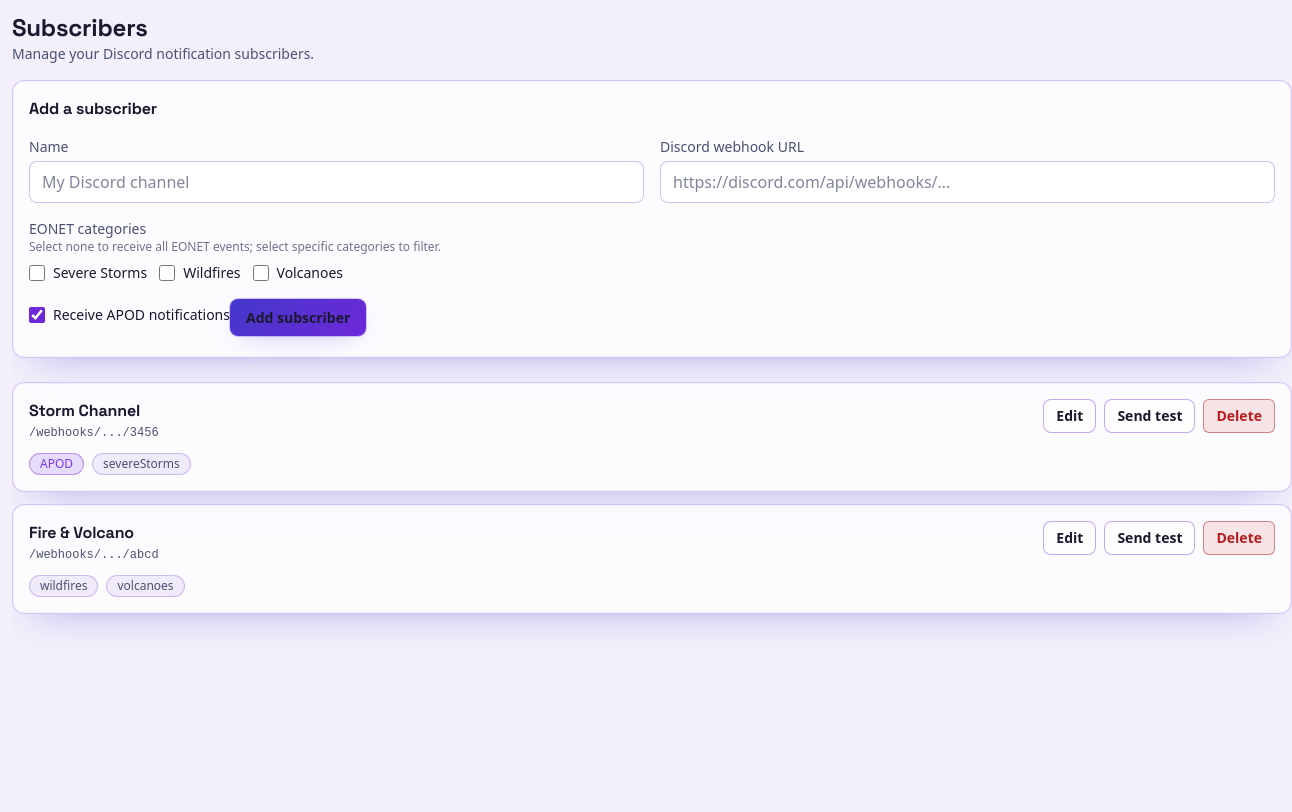
Test case: Subscribers — VAL-FE-SUB-002 webhook URL validation › rejects `not-a-url` with a field error and sends no POST
Expected: the list with test id "subscribers-list" is shown, top-left (12, 382), bottom-right (1291, 614)
Type "My Sub" into the field with test id "sub-name-input".
click(336, 182); type("My Sub")  # box top-left (29, 161), bottom-right (644, 203)
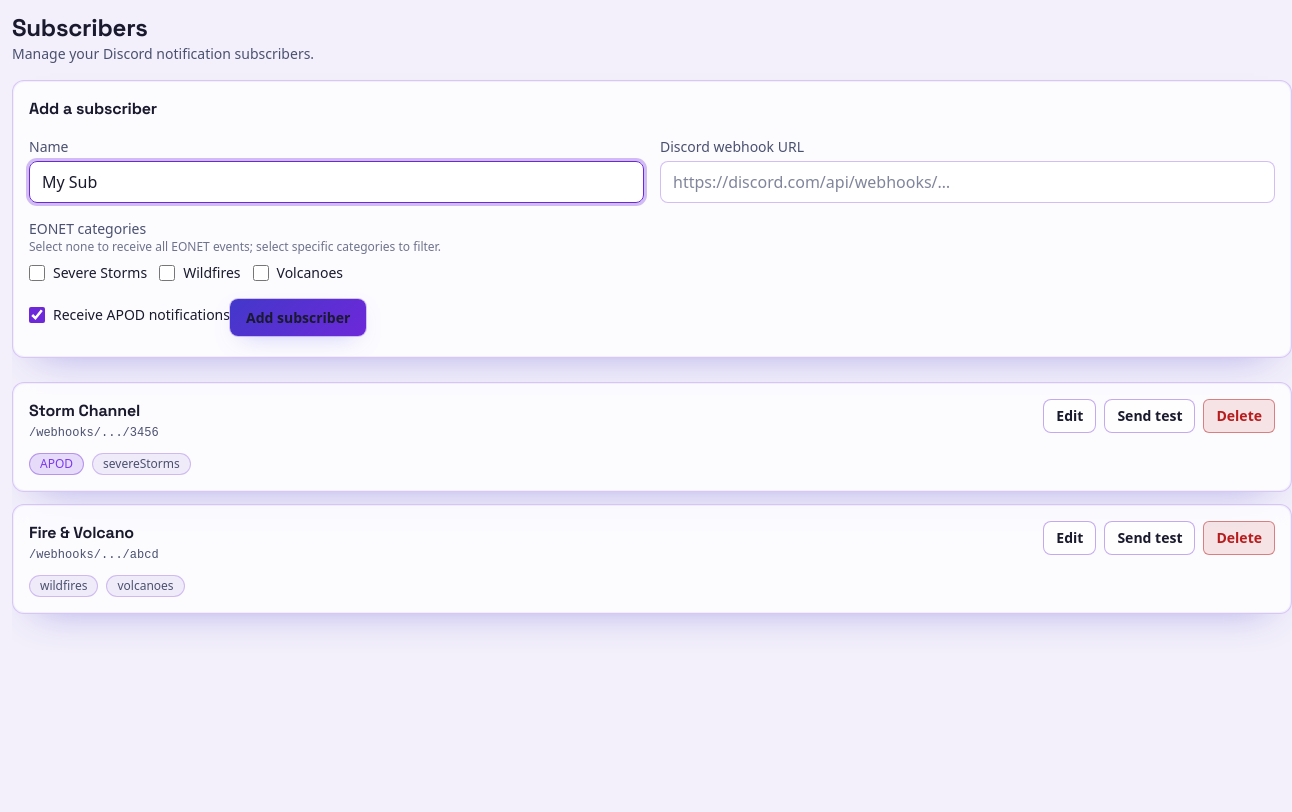
Type "not-a-url" into the field with test id "sub-webhook-input".
click(968, 182); type("not-a-url")  # box top-left (660, 161), bottom-right (1275, 203)
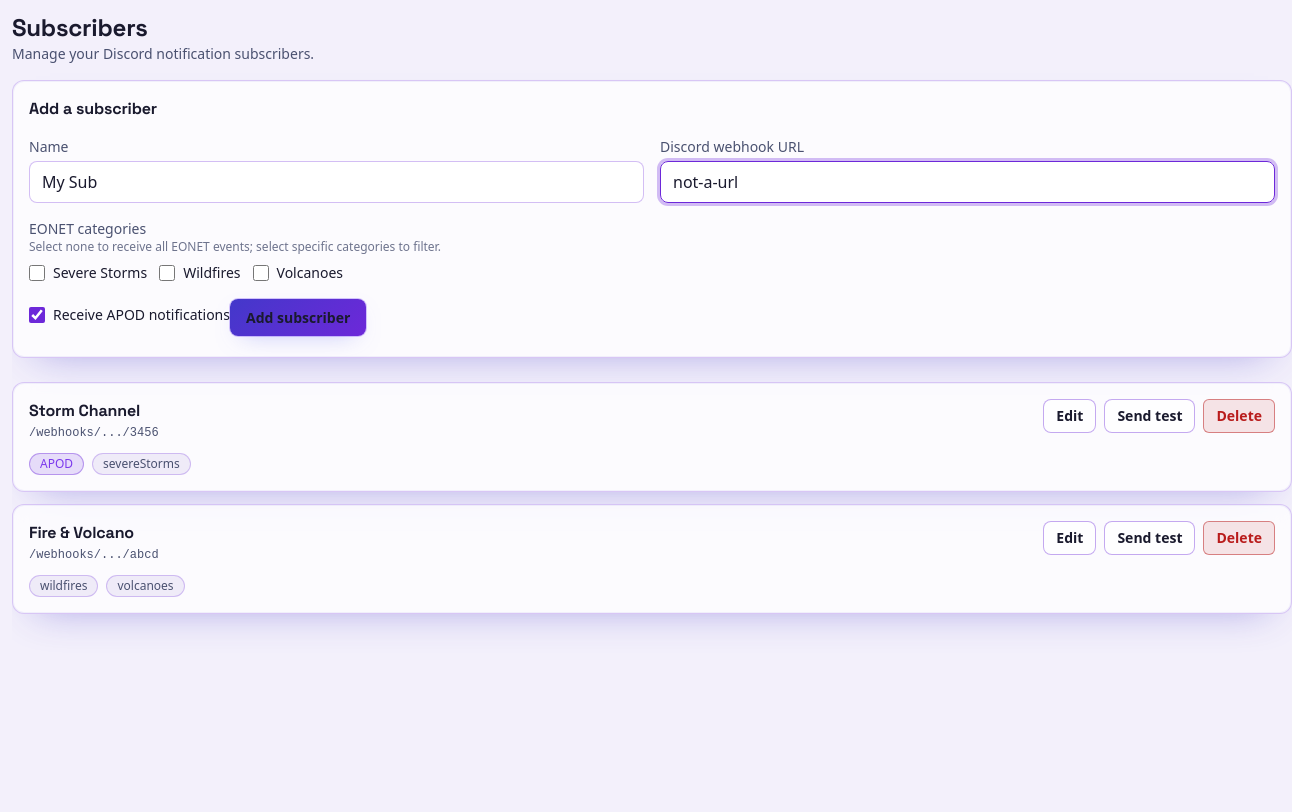
Click the button with test id "add-subscriber-submit".
click(298, 318)  # box top-left (230, 299), bottom-right (366, 336)
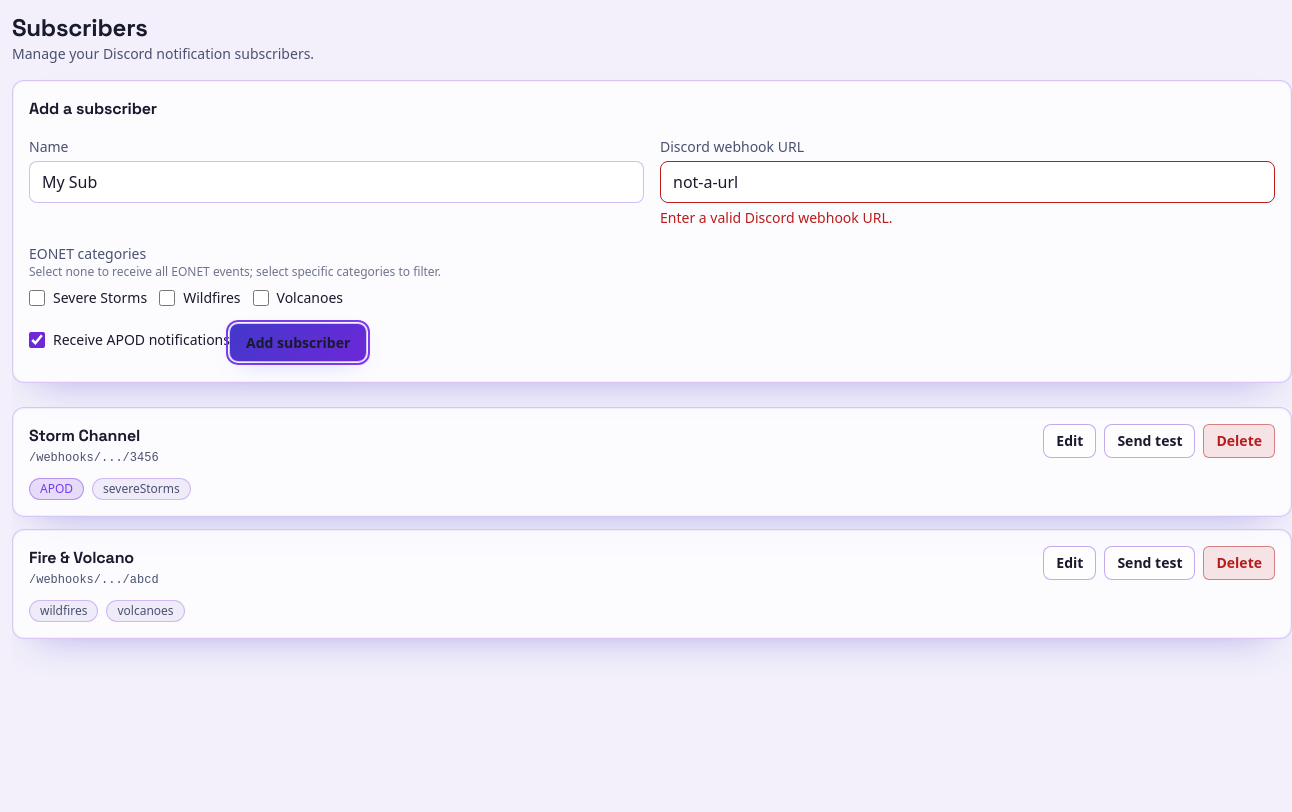
Result: the message "Enter a valid Discord webhook URL." is shown at top-left (660, 208), bottom-right (892, 227)
